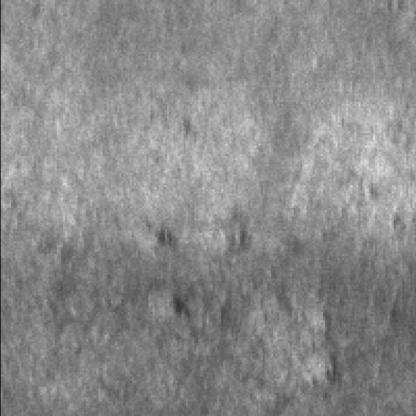rolled-in_scale: (146, 218, 347, 408)
